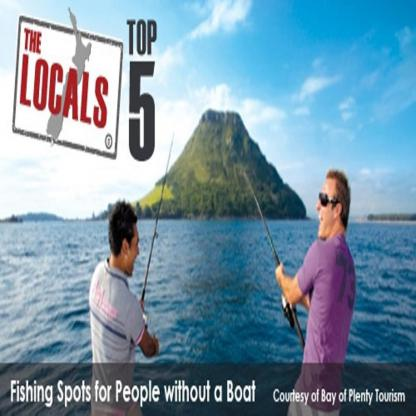face: (317, 179, 337, 237), (126, 227, 140, 276)
